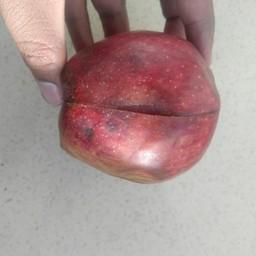Bad_apple: (54, 28, 220, 185)
